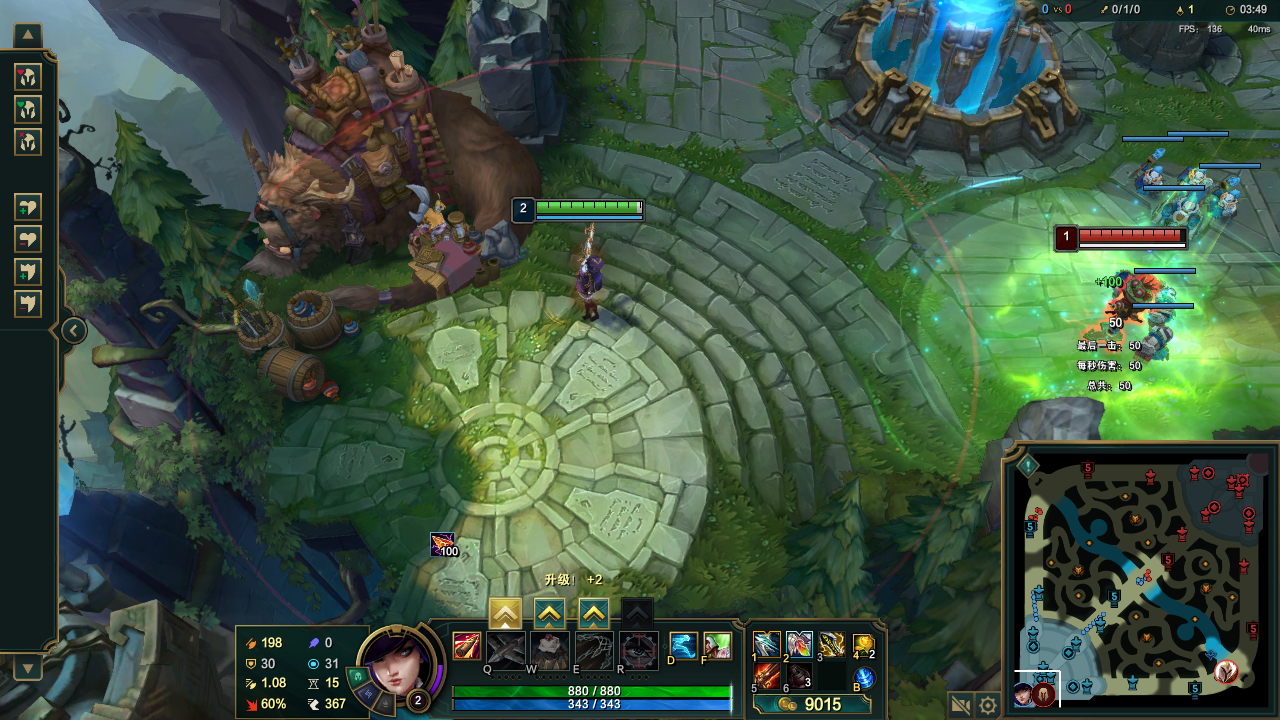DFYX: (1079, 228, 1185, 241)
